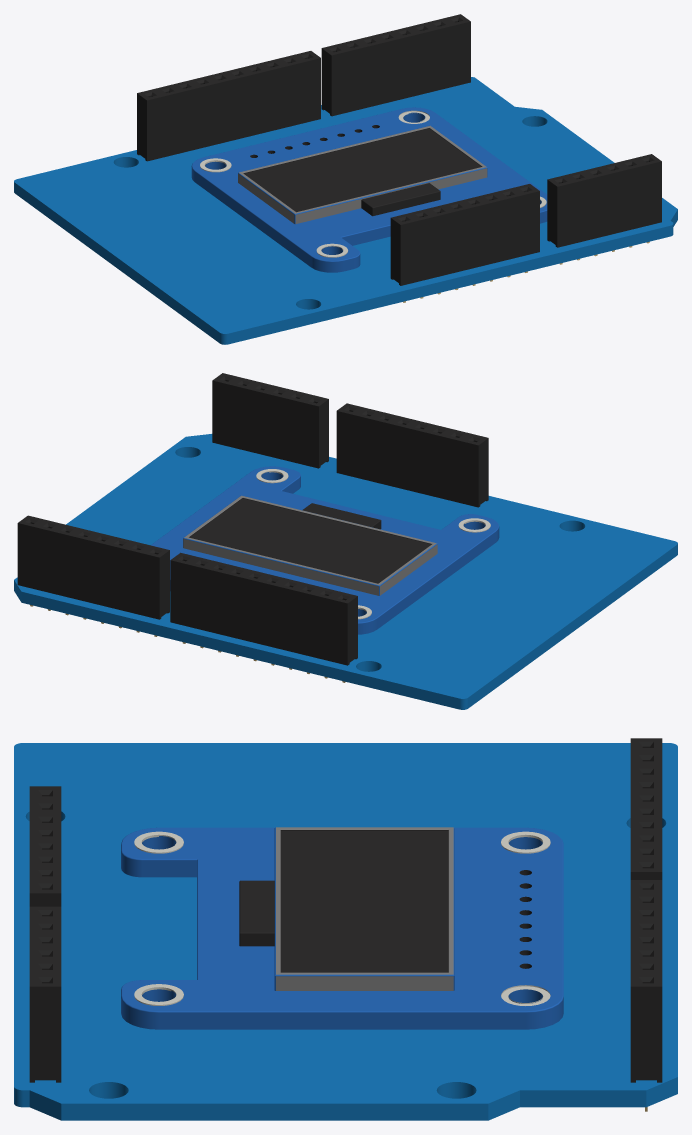
The model's file is assembly-pcb.glb.
The picture shows the model from 3 angles, top to bottom: view 1: azimuth 30°, elevation 25°; view 2: azimuth 150°, elevation 25°; view 3: azimuth 270°, elevation 25°; orthographic projection. The views are drawn at different scales.
Parts seen in each view (by area): view 1: =>[0:1:1:6], U1, J2, J1, J4, J3; view 2: =>[0:1:1:6], U1, J2, J4, J1, J3; view 3: =>[0:1:1:6], U1, J4, J3, J2, J1.
Part boxes in pixels (box(x1,y1,x2,y2)): =>[0:1:1:6]: box(14, 77, 677, 344); U1: box(191, 107, 547, 272); J2: box(137, 51, 320, 161); J1: box(390, 184, 539, 302); J4: box(321, 14, 470, 116); J3: box(547, 154, 661, 264); =>[0:1:1:6]: box(14, 434, 677, 709); U1: box(151, 466, 499, 634); J2: box(170, 552, 357, 682); J4: box(17, 515, 169, 636); J1: box(336, 403, 488, 507); J3: box(212, 373, 328, 468); =>[0:1:1:6]: box(14, 743, 677, 1120); U1: box(121, 827, 563, 1029); J4: box(630, 880, 662, 1111); J3: box(29, 906, 61, 1082); J2: box(630, 738, 662, 879); J1: box(29, 786, 61, 906).
Size of the model in its own units: 0.0686 by 0.0116 by 0.0533.
